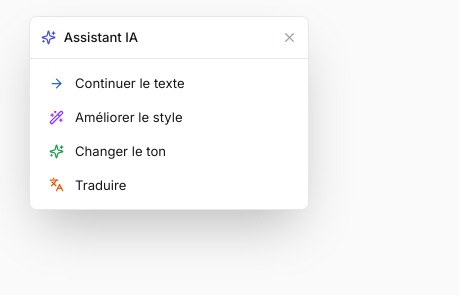
Test: AIContextMenu › Tone Actions › should go back from tone menu
Click the button "Changer le ton".
click(169, 151)  # box [38,134,300,168]
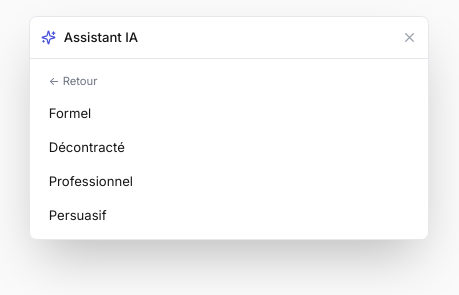
Result: the button "← Retour" is shown
Click the button "← Retour".
click(73, 81)  # box [38,67,420,97]
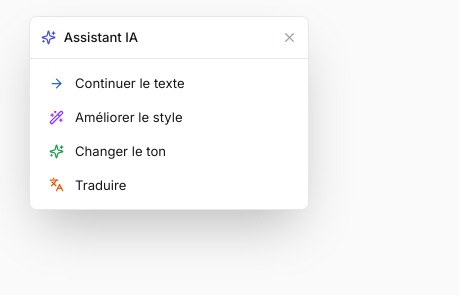
Result: the text "Continuer le texte" is shown at [75,74,185,93]
